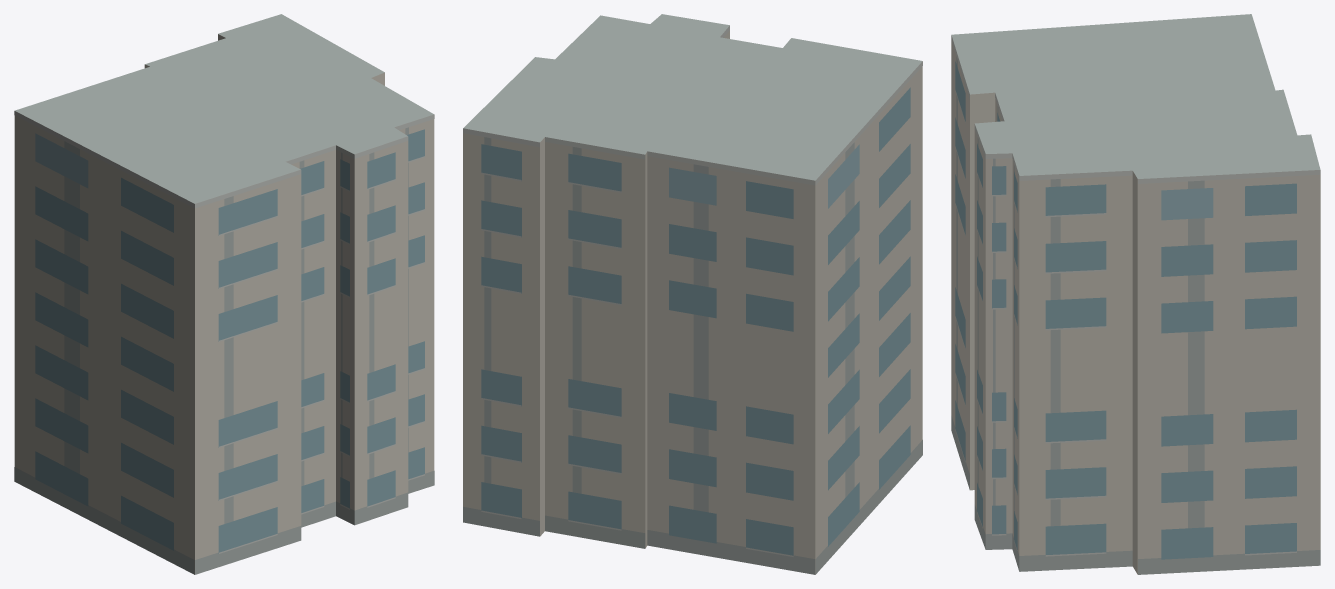
Rendered from survey-upis-32724602.glb.
3 renders of one model, left to right at view 1: azimuth 30°, elevation 25°; view 2: azimuth 150°, elevation 25°; view 3: azimuth 270°, elevation 25°, orthographic. The views are drawn at different scales.
Parts seen in each view (by area): view 1: survey-upis-32724602.tmp; view 2: survey-upis-32724602.tmp; view 3: survey-upis-32724602.tmp.
Boxes of the visible parts, left/top/right/bottom form: survey-upis-32724602.tmp: left=14, top=14, right=434, bottom=574; survey-upis-32724602.tmp: left=463, top=14, right=922, bottom=574; survey-upis-32724602.tmp: left=951, top=14, right=1320, bottom=574.
Bounding box in the file's own units: 17.63 × 19.7 × 16.66.
